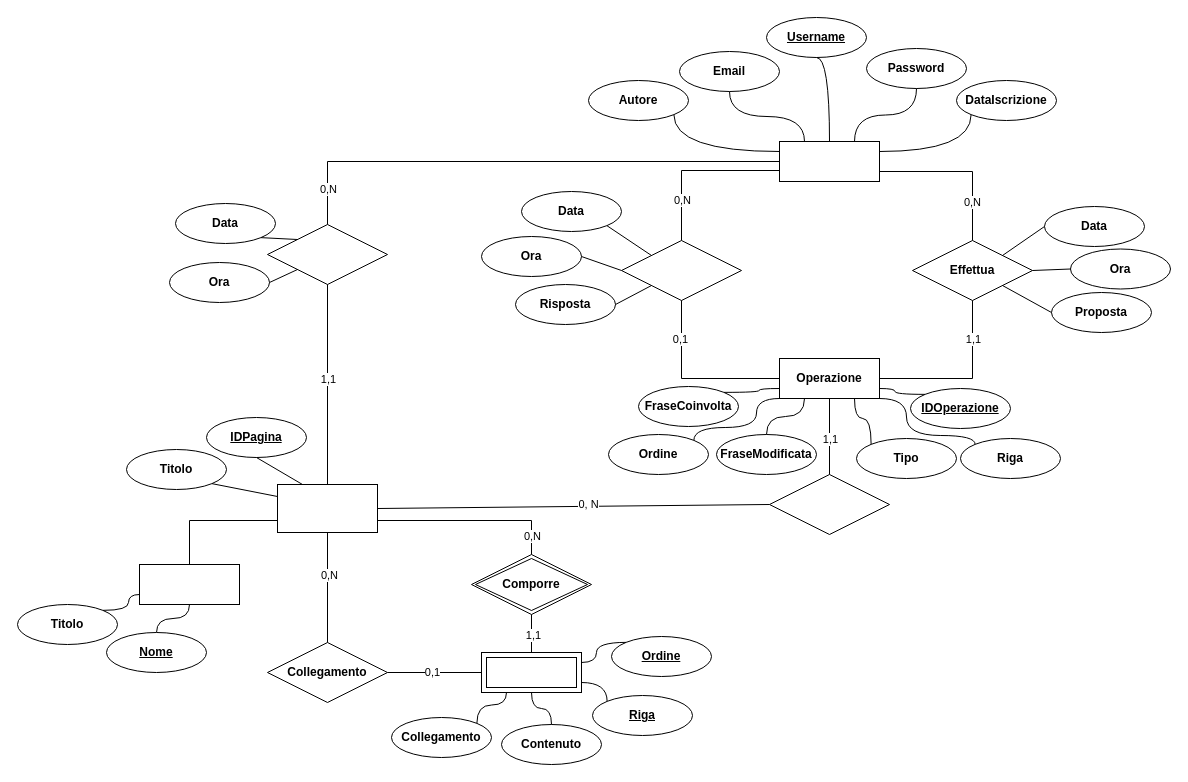
Some shapes in this 1188 by 782 pixel diagram are drawn without their labels. The centre of each missing label's shape, as x and y in pixels:
Approvazione: the point at 681,270
Creazione: the point at 327,254
Frase: the point at 531,672
Pagina: the point at 327,508
Riferire: the point at 829,504
Tema: the point at 189,584
Utente: the point at 829,161
